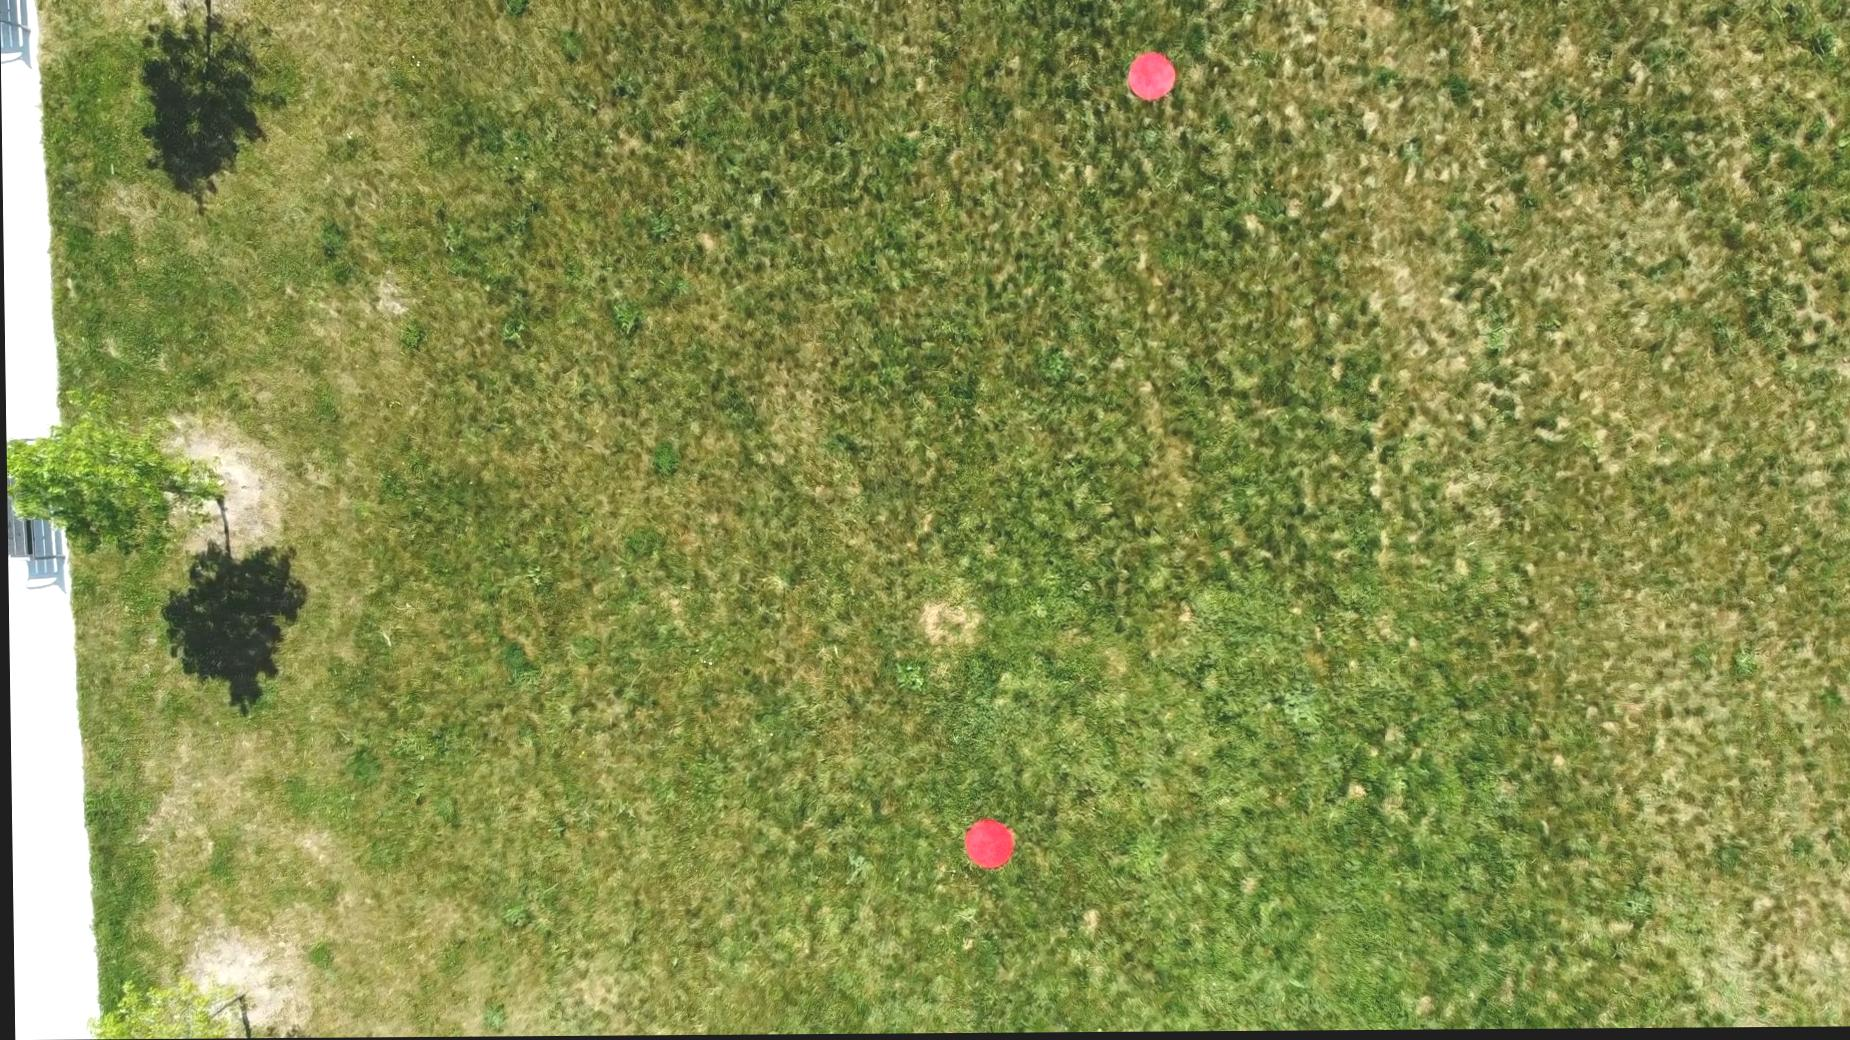Red: (1122, 51, 1180, 105), (961, 818, 1014, 872)
